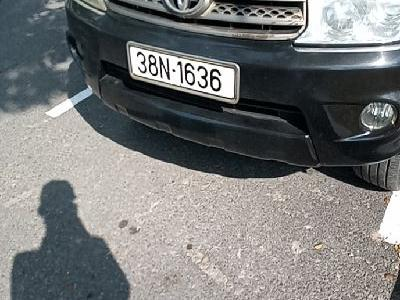lisence: (126, 40, 242, 105)
